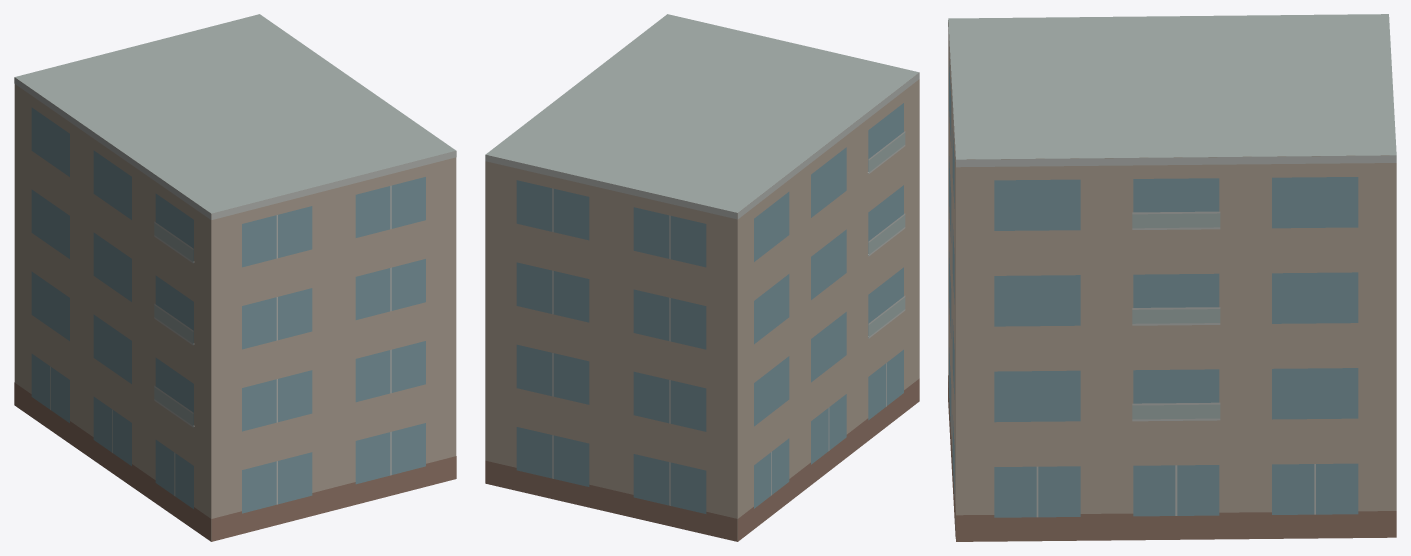
The model's file is residential-bfefbd9d-4149-4b39-9b61-41cb73c55514.glb.
3 renders of one model, left to right at view 1: azimuth 30°, elevation 25°; view 2: azimuth 150°, elevation 25°; view 3: azimuth 270°, elevation 25°, orthographic. The views are drawn at different scales.
Visible parts, largest first — view 1: residential-bfefbd9d-4149-4b39-9b61-41cb73c55514.tmp; view 2: residential-bfefbd9d-4149-4b39-9b61-41cb73c55514.tmp; view 3: residential-bfefbd9d-4149-4b39-9b61-41cb73c55514.tmp.
Part boxes in pixels (x1,y1,x2,y2): residential-bfefbd9d-4149-4b39-9b61-41cb73c55514.tmp: (14,14,456,541); residential-bfefbd9d-4149-4b39-9b61-41cb73c55514.tmp: (485,14,919,541); residential-bfefbd9d-4149-4b39-9b61-41cb73c55514.tmp: (948,14,1396,541).
Bounding box in the file's own units: 9.97 × 12.2 × 12.98.
